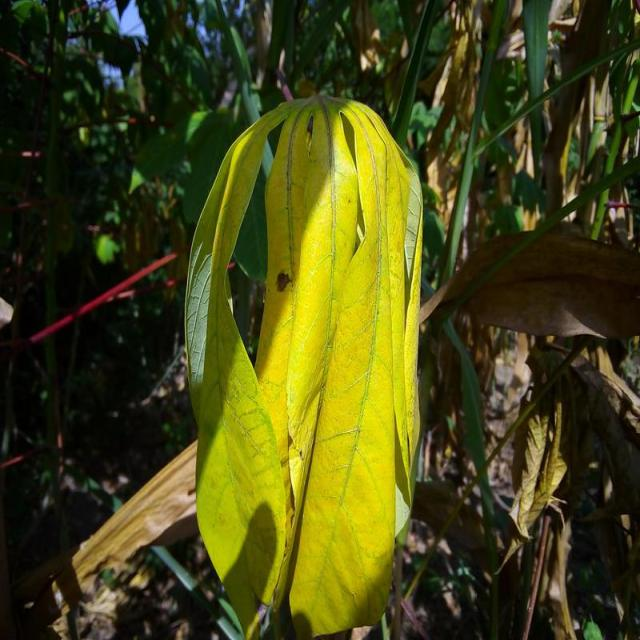Mosaico: (168, 58, 481, 621)
